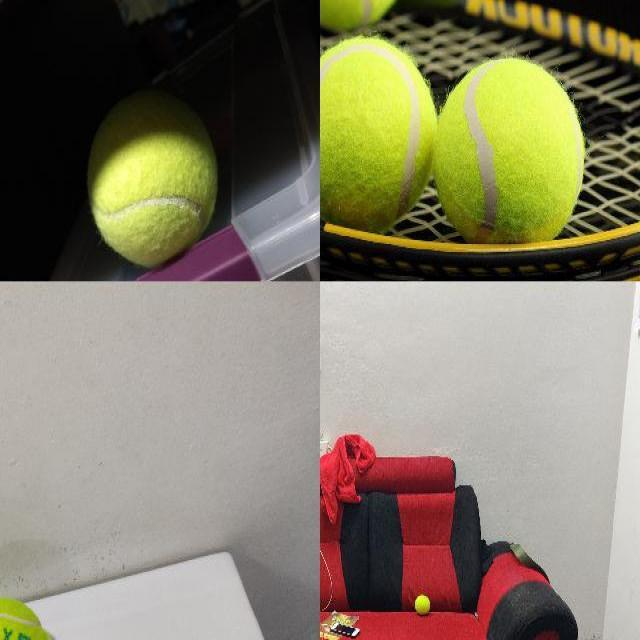tennis-ball: (436, 58, 586, 242), (80, 87, 220, 276), (320, 34, 438, 234), (414, 594, 430, 614)
